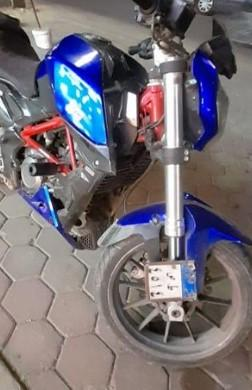License Plate: (146, 261, 200, 300)
